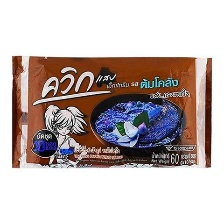snack: (3, 42, 218, 176)
